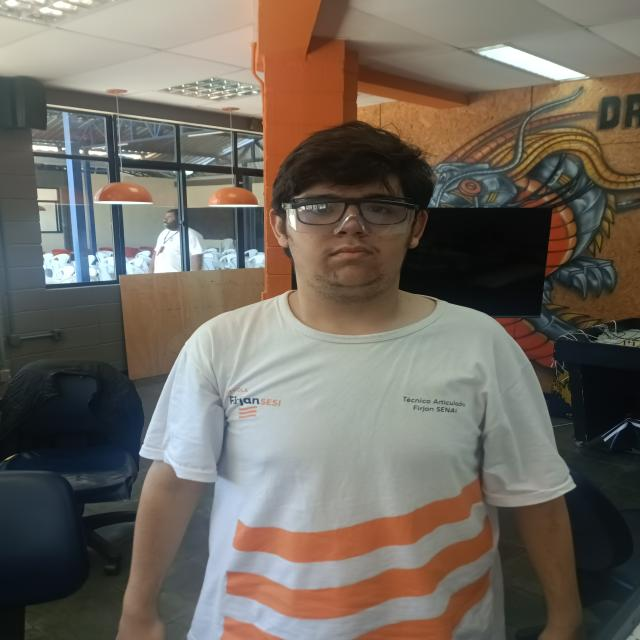oculos-epi: (281, 199, 418, 235)
